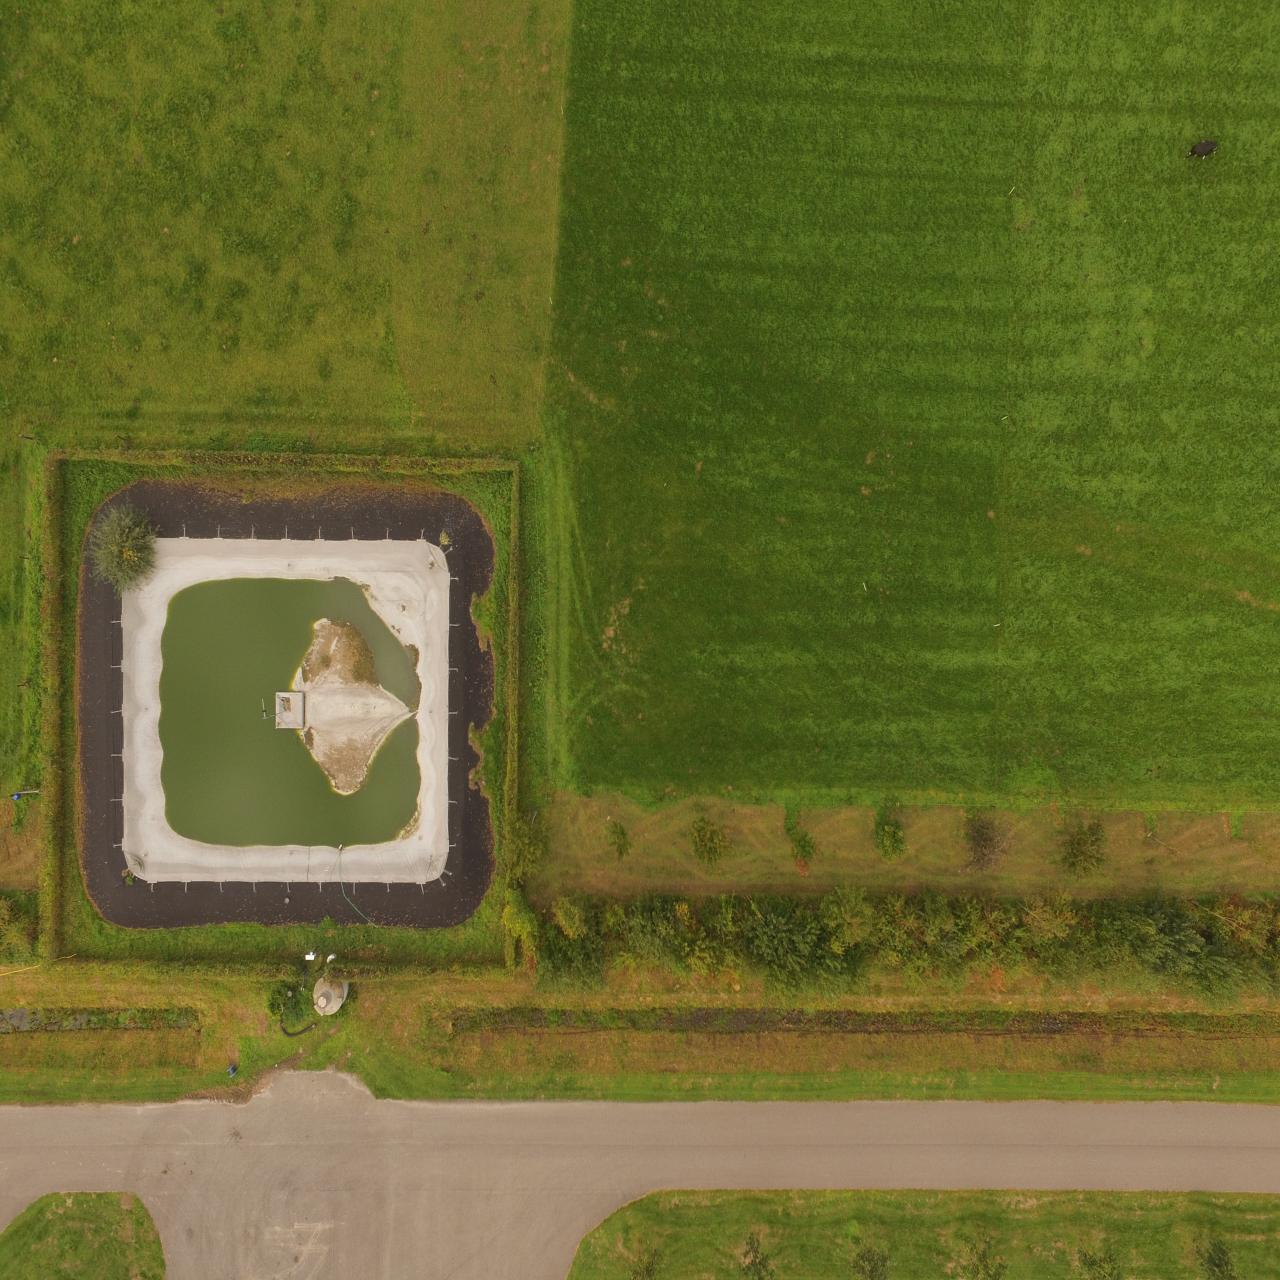cow: (1182, 138, 1220, 162)
